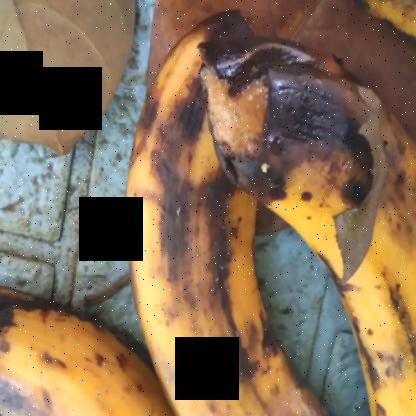rotten: (119, 9, 334, 415), (211, 26, 416, 415)
